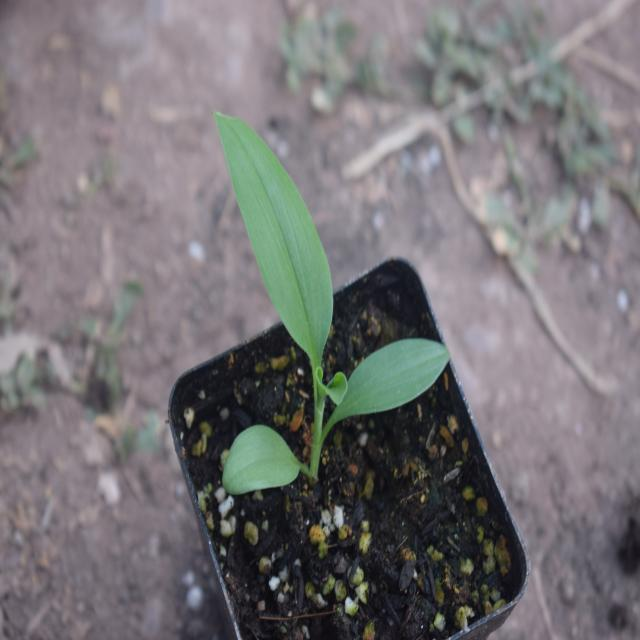Common Dayflower: (198, 98, 441, 510)
